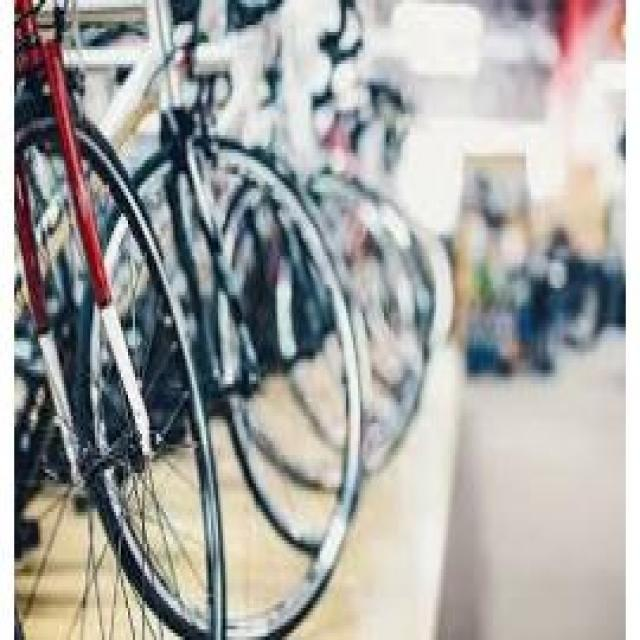bicycle: (13, 19, 407, 638)
